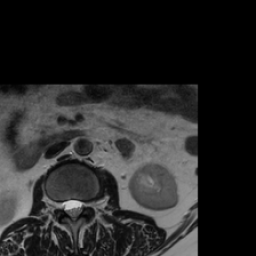CCS_normal: (69, 194, 75, 227)
LFS_stenosis: (83, 195, 90, 215)
LLS_normal: (75, 194, 83, 219)
RFS_normal: (55, 195, 63, 216)
RLS_normal: (63, 195, 69, 220)
